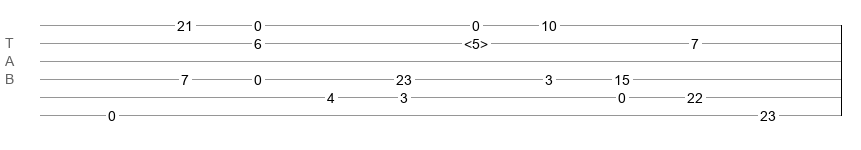0: (108, 108, 116, 118), (254, 72, 262, 82), (254, 18, 262, 28), (472, 18, 480, 28), (618, 90, 626, 100)
10: (541, 18, 557, 28)
15: (614, 72, 630, 82)
21: (177, 18, 193, 28)
22: (687, 90, 703, 100)
23: (396, 72, 412, 82), (760, 108, 776, 118)
3: (400, 90, 408, 100), (545, 72, 553, 82)
4: (327, 90, 335, 100)
6: (254, 36, 262, 46)
7: (181, 72, 189, 82), (691, 36, 699, 46)
harmonic: (464, 36, 488, 46)
